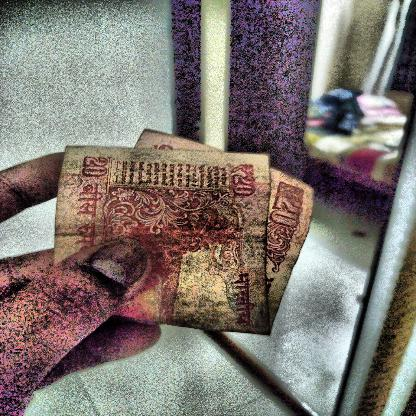Rs20: (263, 188, 309, 234), (226, 158, 259, 202), (79, 155, 113, 180)
